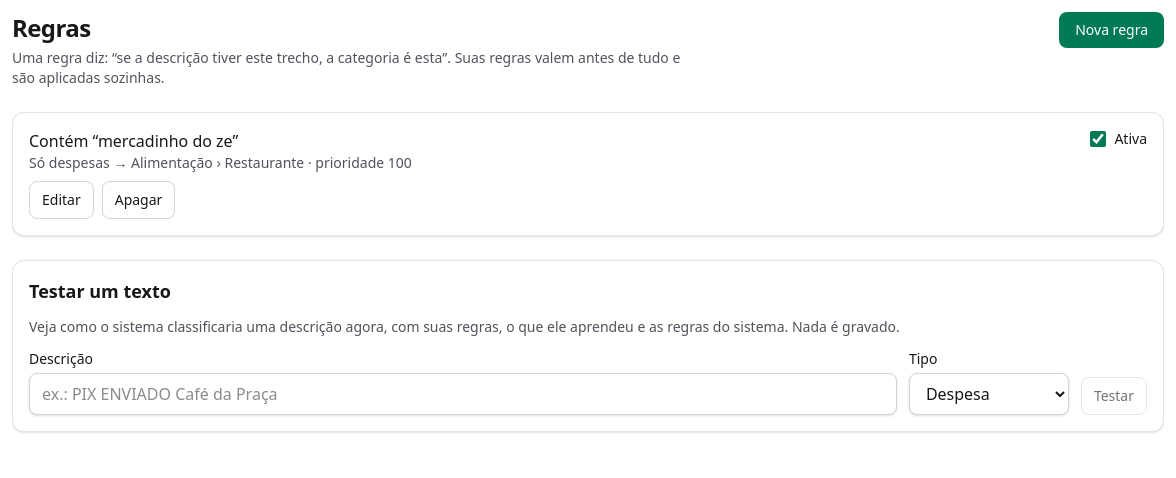
Test: RulesView › apagar pede confirmação e explica que as transações não mudam
The image size is (1176, 478).
Later steps or results of the test are not shown.
Click the button with aria-label "Apagar a regra mercadinho do ze" at {"x": 139, "y": 200}, box left=102, top=181, right=175, bottom=219
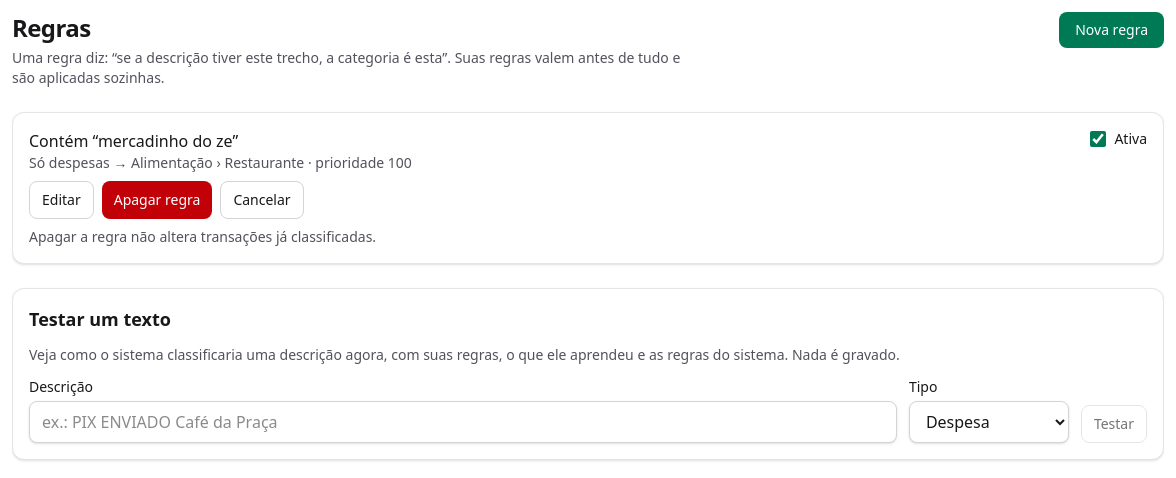
expect the text "Apagar a regra não altera transações já classificadas." is shown: met, box left=29, top=227, right=376, bottom=246
